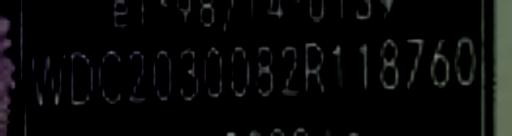letter: (27, 46, 69, 107), (66, 46, 98, 111), (370, 34, 402, 96), (422, 34, 456, 92), (198, 42, 230, 103), (120, 46, 152, 107), (274, 38, 304, 100), (398, 34, 430, 92), (300, 38, 332, 96), (450, 31, 480, 92), (172, 42, 202, 103), (94, 46, 124, 107), (148, 46, 180, 103), (324, 38, 352, 96), (226, 42, 254, 100), (250, 38, 276, 100), (348, 38, 374, 96)
